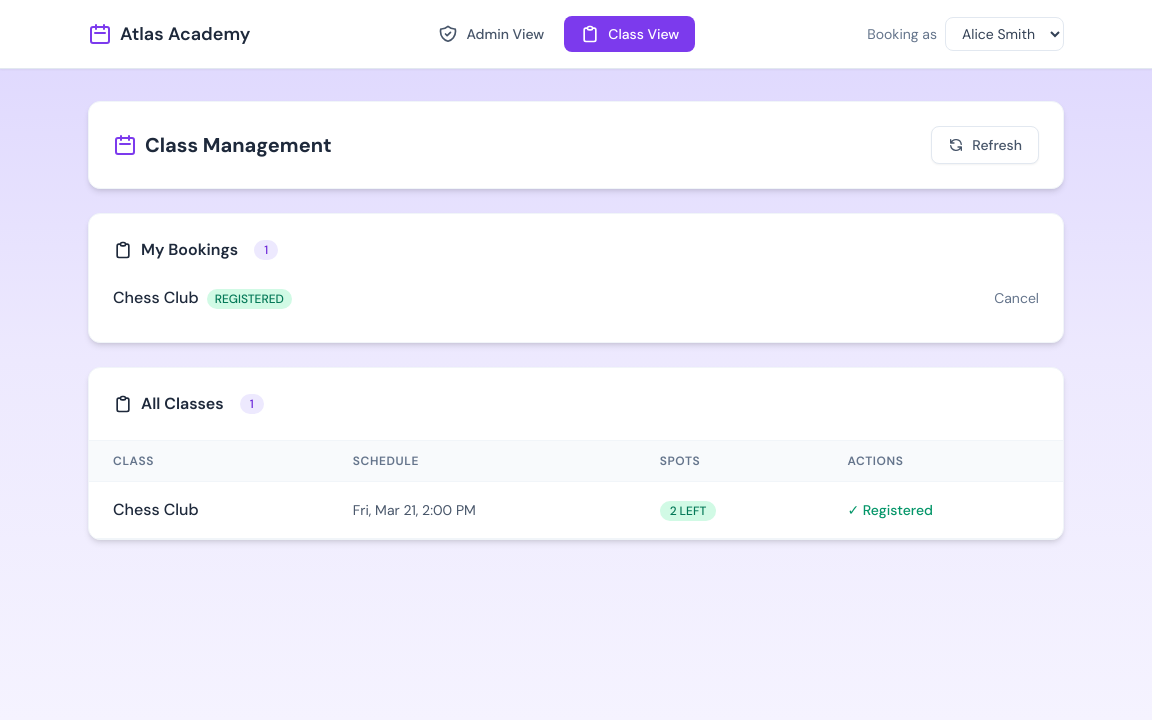
Test: Home page › refreshes both classes and registrations after cancelling
Check: the heading "My Bookings 1" is shown, box [113,239,278,260]
Click the button "Cancel".
click(1017, 298)  # box [994,288,1039,308]
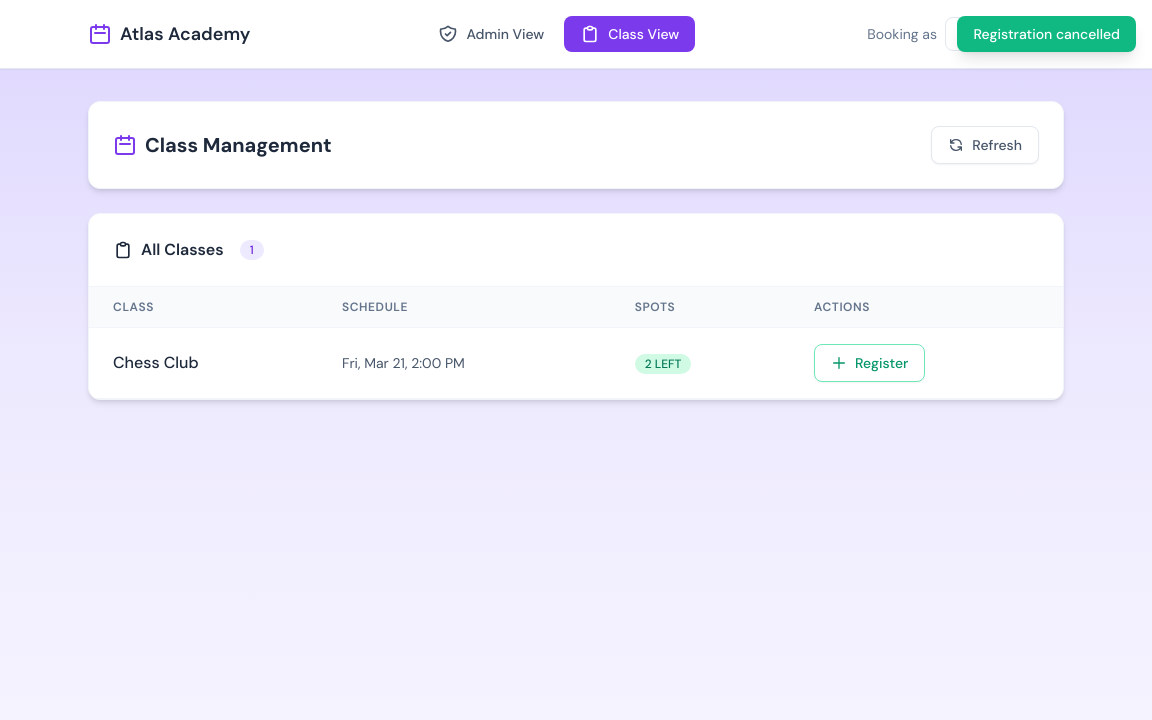
Check: the text "Registration cancelled" is shown, box [957,16,1136,52]
Check: the heading "My Bookings" is gone
